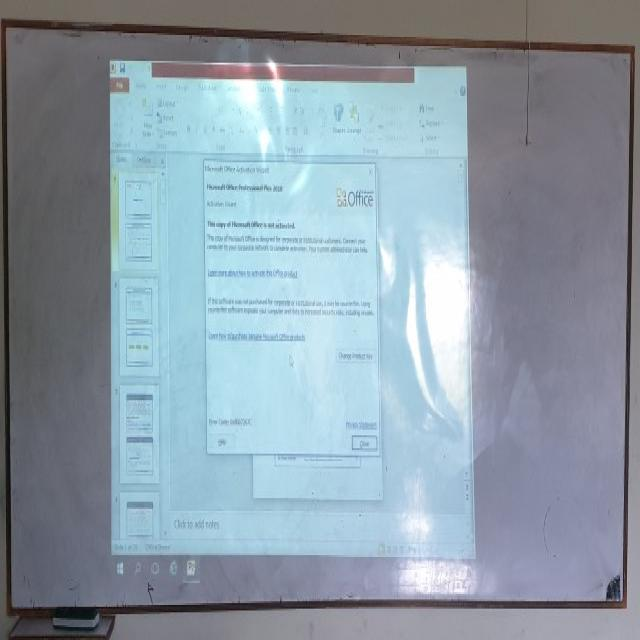Slide: (106, 54, 476, 585)
White-board: (6, 27, 634, 613)
